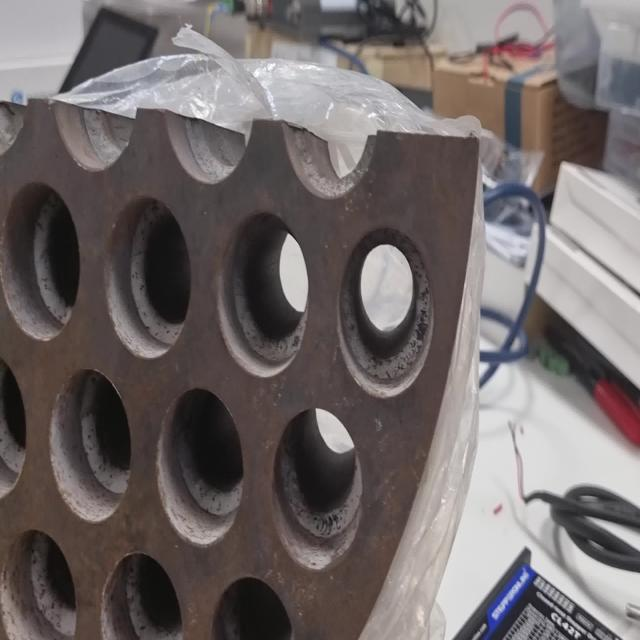Hole: (338, 224, 436, 398), (216, 208, 310, 378), (272, 407, 363, 571), (104, 194, 192, 360), (156, 386, 244, 548), (48, 368, 132, 524), (1, 180, 81, 342), (0, 527, 77, 639), (101, 550, 184, 640)
